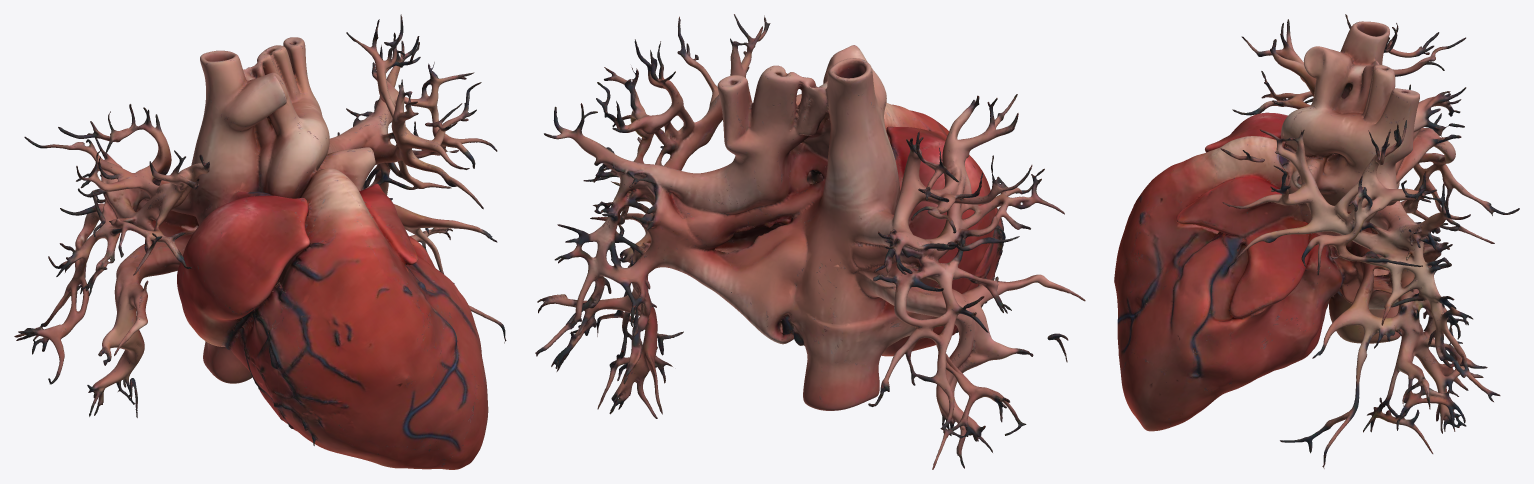
The model's file is heart_fast.glb.
3 views of the same model, side by side, from view 1: azimuth 30°, elevation 25°; view 2: azimuth 150°, elevation 25°; view 3: azimuth 270°, elevation 25° (orthographic). The views are drawn at different scales.
Bounding box in the file's own units: 2 × 1.57 × 1.68.
Materials: 1 (1 with a texture image).
